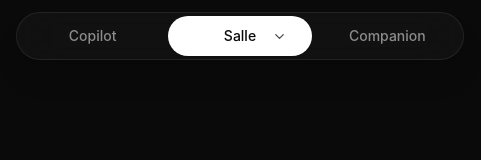
Test: DashboardModeSwitcher : Companion › garde trois rubriques de même largeur et le menu des salles accessible
Click the button named "Choisir un plan de salle".
click(280, 36)  # box [264, 20, 296, 52]
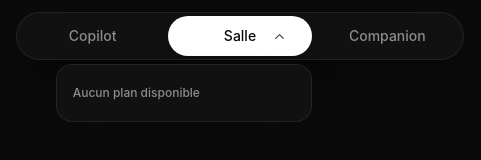
Expected: the list named "Plans de salle" is shown, [56, 64, 312, 122]
